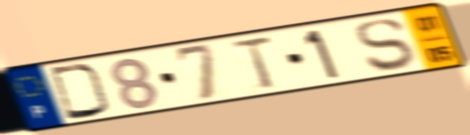1: (302, 28, 343, 81)
7: (171, 42, 220, 103)
8: (108, 56, 161, 112)
D: (46, 62, 114, 122)
S: (353, 16, 417, 74)
T: (226, 34, 278, 92)
